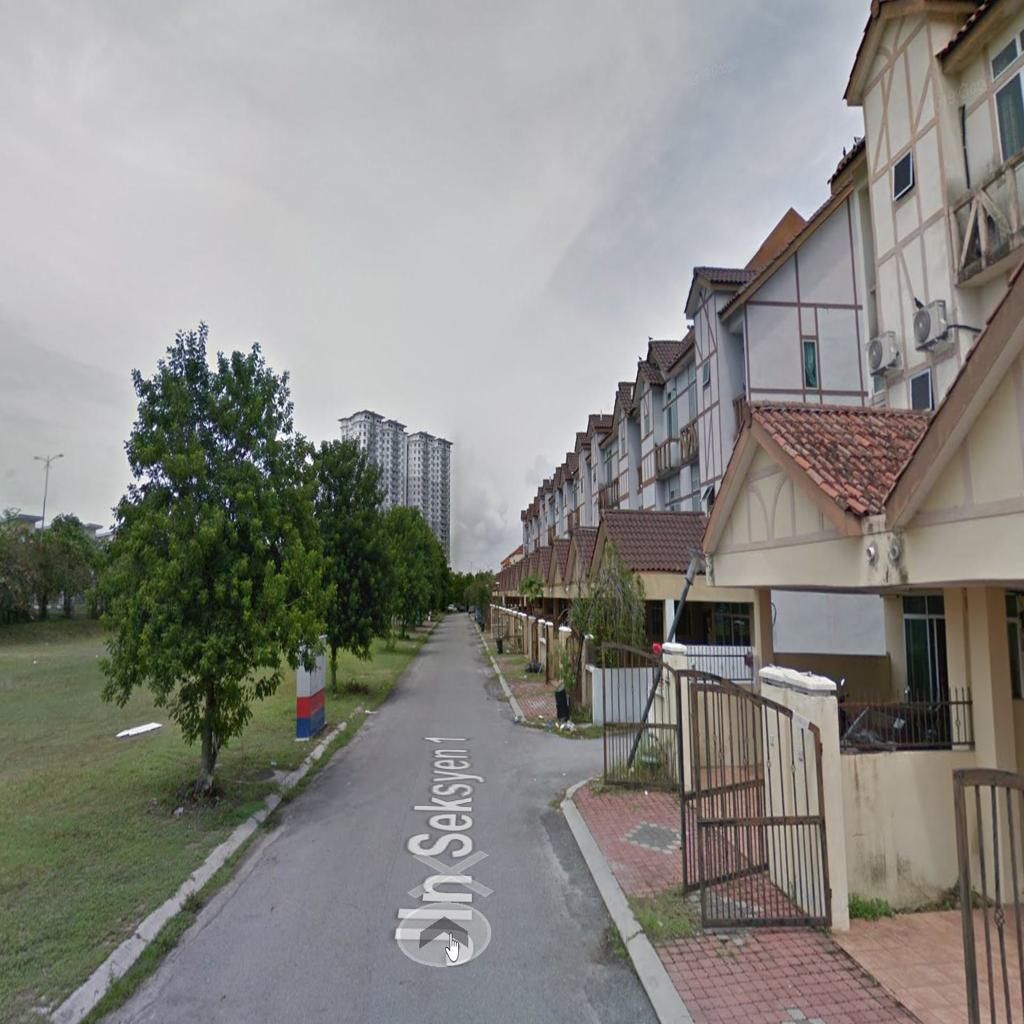Junction: (457, 686, 655, 802)
